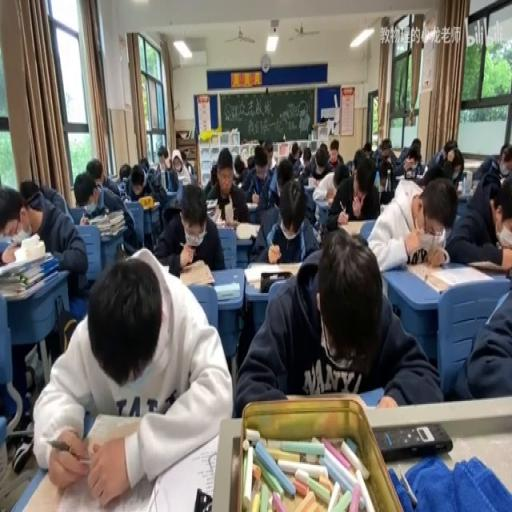calculator: (150, 432, 220, 510), (243, 260, 295, 286), (178, 257, 214, 286), (0, 228, 31, 248), (208, 210, 240, 229), (338, 218, 370, 234), (214, 282, 240, 300), (234, 222, 259, 240), (138, 196, 160, 212), (162, 189, 178, 206), (462, 169, 472, 195), (204, 199, 218, 213), (88, 213, 104, 225), (305, 175, 317, 188), (313, 196, 328, 206), (417, 162, 427, 176), (147, 163, 157, 175), (246, 201, 258, 209), (177, 174, 187, 182)
paper: (34, 246, 232, 501), (235, 229, 438, 415), (1, 182, 86, 307), (450, 256, 511, 402), (368, 171, 456, 270), (445, 159, 512, 265), (153, 179, 223, 275), (322, 154, 381, 230), (124, 160, 166, 248), (242, 142, 278, 216), (420, 139, 462, 185), (84, 158, 122, 202), (306, 141, 340, 179), (392, 138, 421, 181), (378, 160, 396, 204), (203, 162, 224, 199), (470, 155, 498, 182), (374, 138, 397, 166), (20, 179, 42, 206), (286, 139, 302, 172), (332, 162, 350, 188), (232, 154, 246, 184), (156, 148, 170, 173), (498, 144, 512, 169), (118, 164, 132, 184), (130, 172, 144, 192), (352, 146, 363, 168), (138, 155, 149, 176), (302, 145, 312, 168), (264, 142, 274, 164), (117, 178, 127, 198), (443, 142, 454, 160), (276, 178, 286, 193), (362, 141, 372, 155), (346, 158, 354, 175), (184, 162, 194, 175), (181, 148, 189, 163), (246, 156, 254, 170), (328, 138, 338, 149), (299, 169, 308, 181), (315, 164, 324, 174), (413, 148, 419, 158), (298, 148, 302, 156)
person: (373, 422, 452, 461), (468, 259, 509, 276), (192, 488, 212, 509), (317, 222, 324, 237)
